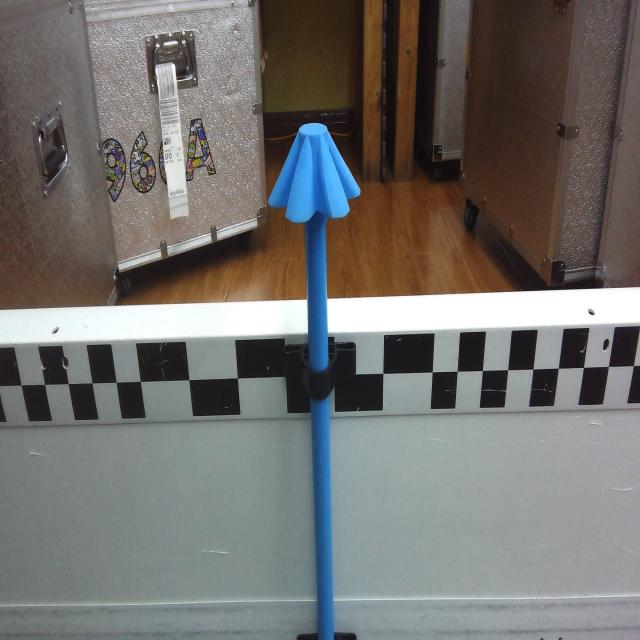zblue-Stake-Head: (268, 123, 361, 223)
